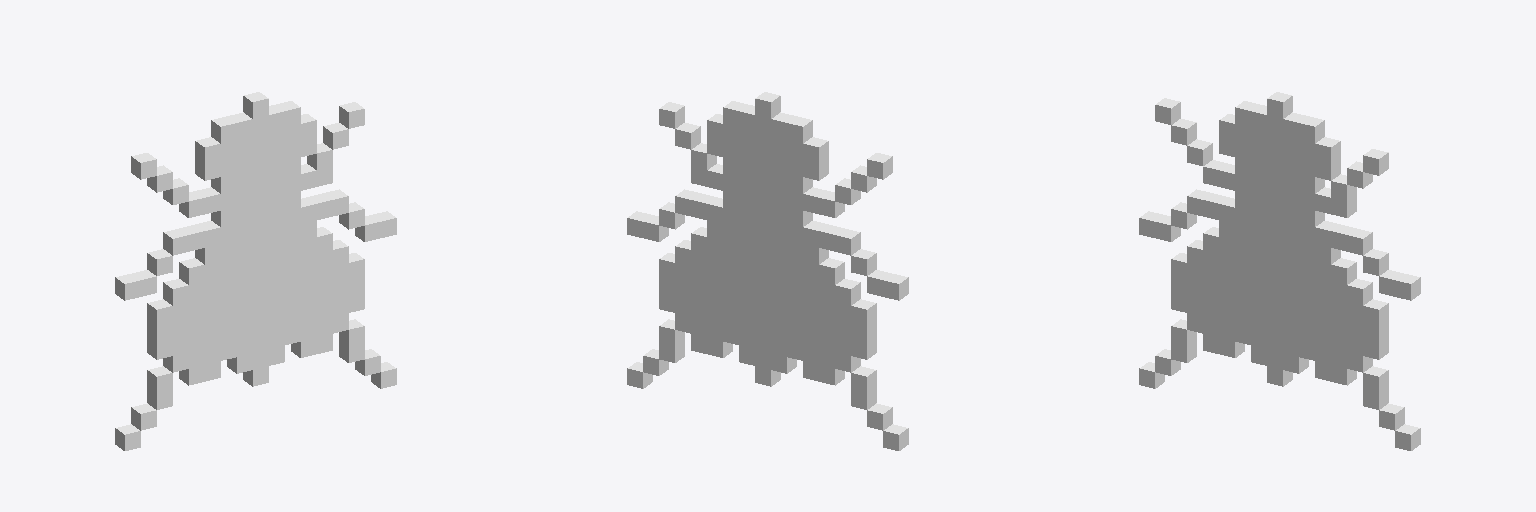
File: mouche.obj
3 renders of one model, left to right at view 1: azimuth 30°, elevation 25°; view 2: azimuth 150°, elevation 25°; view 3: azimuth 330°, elevation 25°, orthographic.
Parts seen in each view (by area): view 1: mouche; view 2: mouche; view 3: mouche.
Part boxes in pixels (left/top/right/bottom): mouche: left=115, top=92, right=396, bottom=450; mouche: left=627, top=92, right=908, bottom=450; mouche: left=1139, top=92, right=1420, bottom=450.
Bounding box in the file's own units: 17 × 19 × 1.